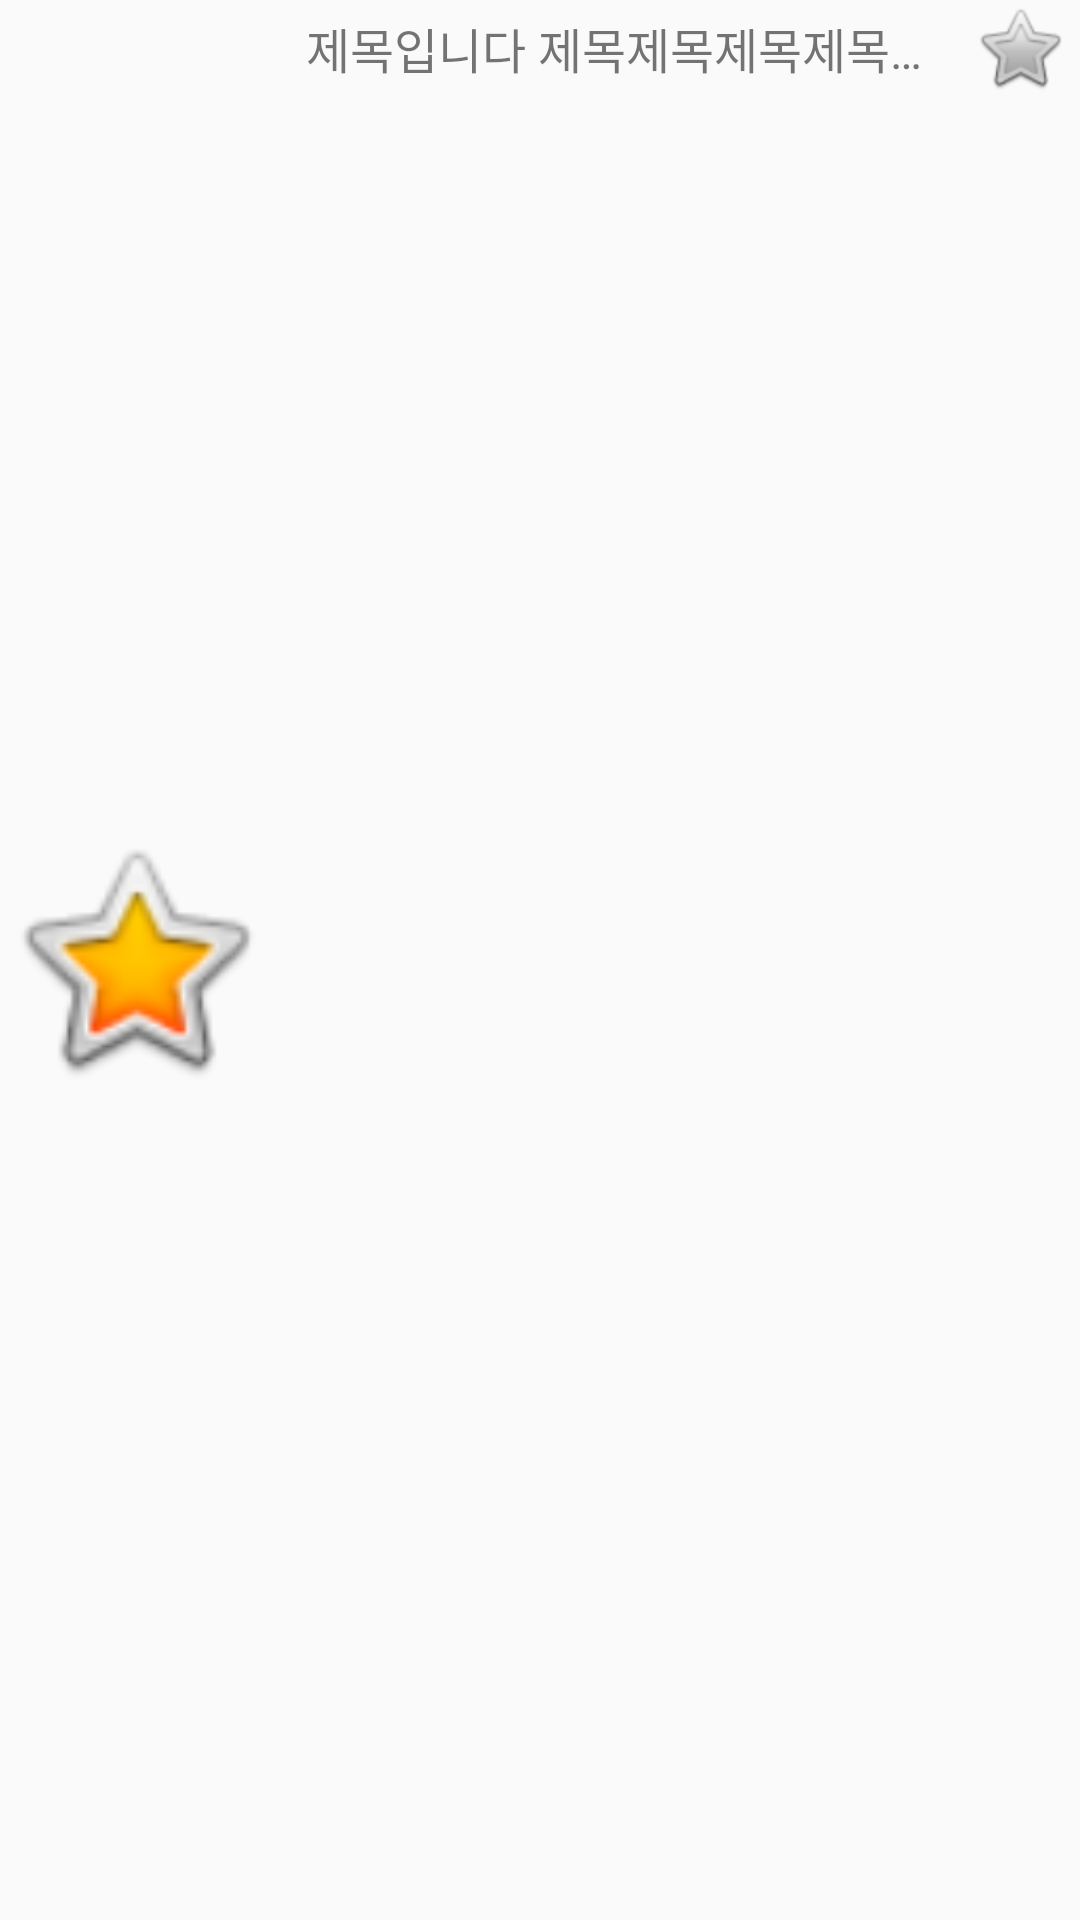

Named icons in this screenshot (1080×1920) and their bounding boxes, (x1, y1, x2, y2):
star: (981, 10, 1061, 88)
star on: (24, 852, 250, 1072)
